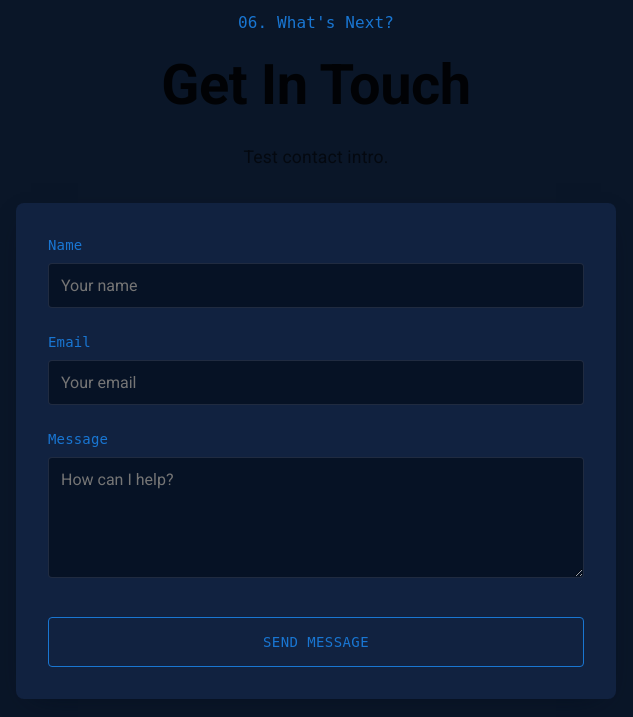
it: Contact Component › verifies OTP and sends message
The image size is (633, 717).
Note: Fill and submit form
In the field with placeholder "Your name": coordinates (316, 285) top-left (48, 263), bottom-right (584, 308), type "Test User"
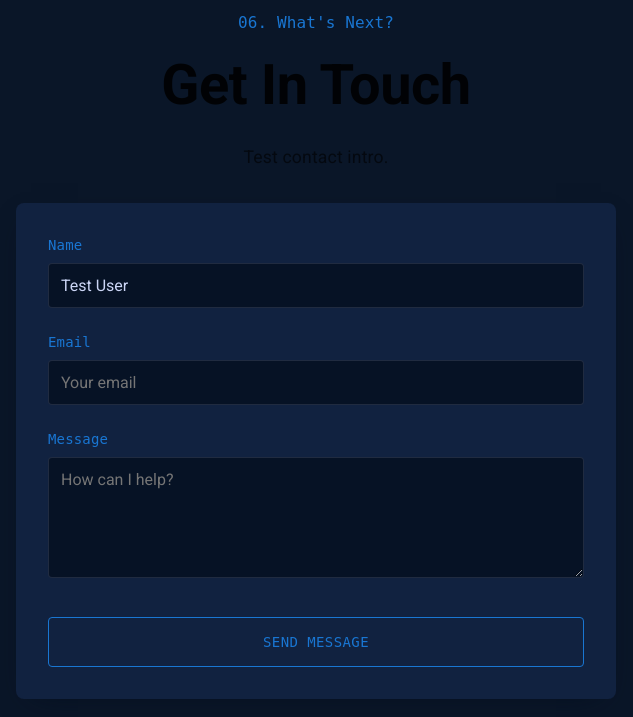
In the field with placeholder "Your email": coordinates (316, 382) top-left (48, 360), bottom-right (584, 405), type "test@example.com"
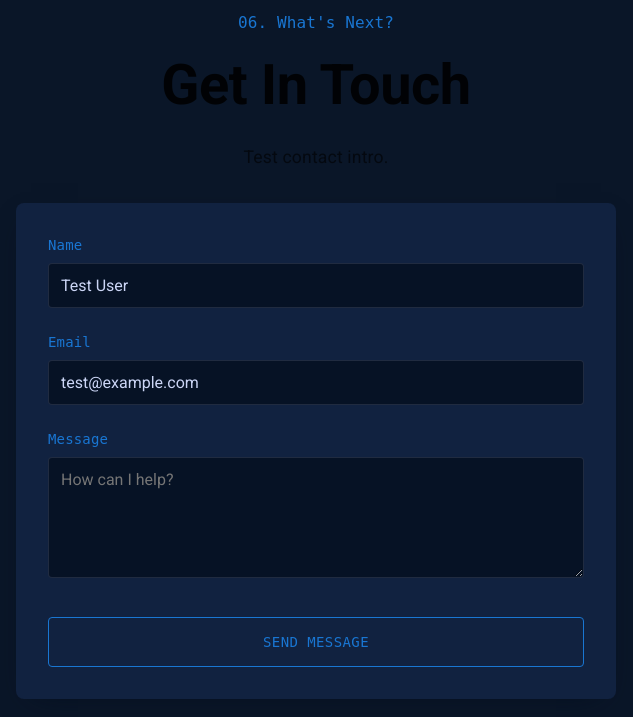
In the text box with placeholder "How can I help?": coordinates (316, 518) top-left (48, 457), bottom-right (584, 578), type "Hello world"
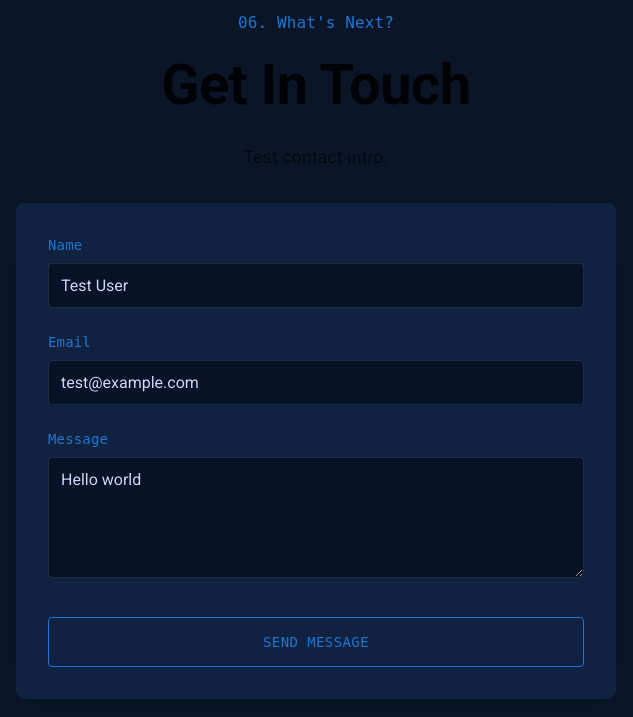
Click the button "Send Message": coordinates (316, 642) top-left (48, 617), bottom-right (584, 668)
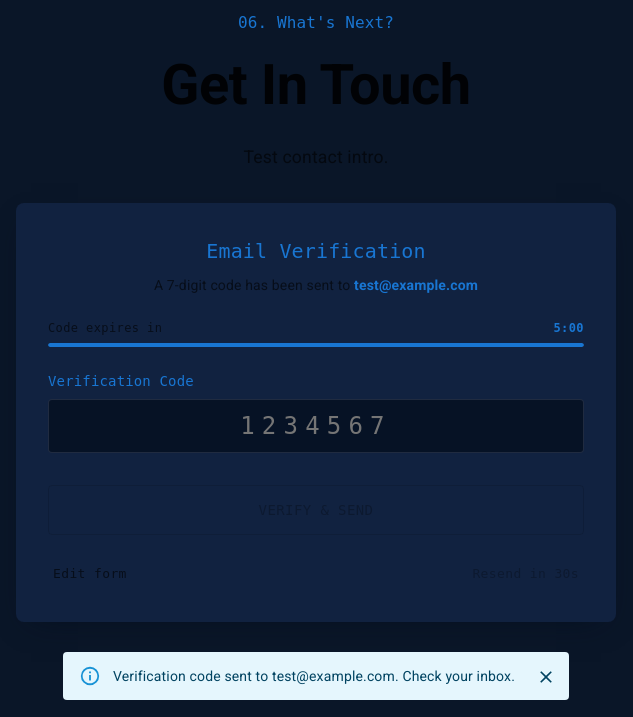
Result: the field with placeholder "1234567" is shown
Note: Enter OTP and verify
In the field with placeholder "1234567": coordinates (316, 426) top-left (48, 399), bottom-right (584, 453), type "9876543"
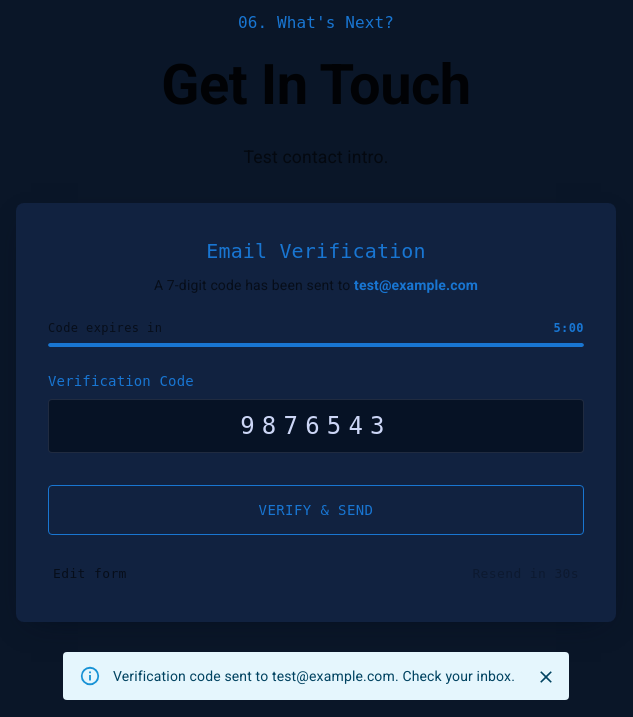
Click the button "Verify & Send": coordinates (316, 510) top-left (48, 485), bottom-right (584, 535)
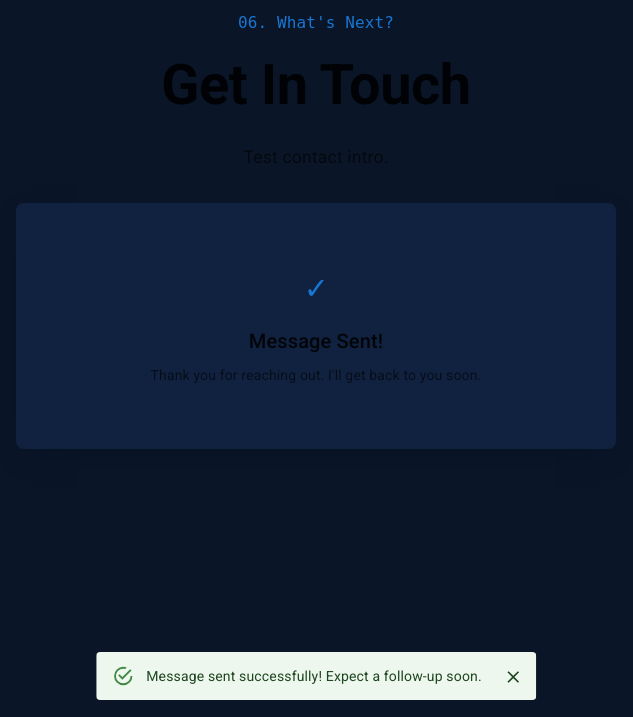
Result: the heading "Message Sent!" is shown at top-left (249, 329), bottom-right (383, 353)
